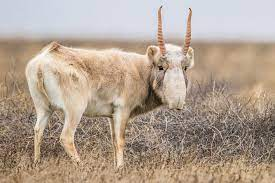saiga: (25, 6, 197, 171)
